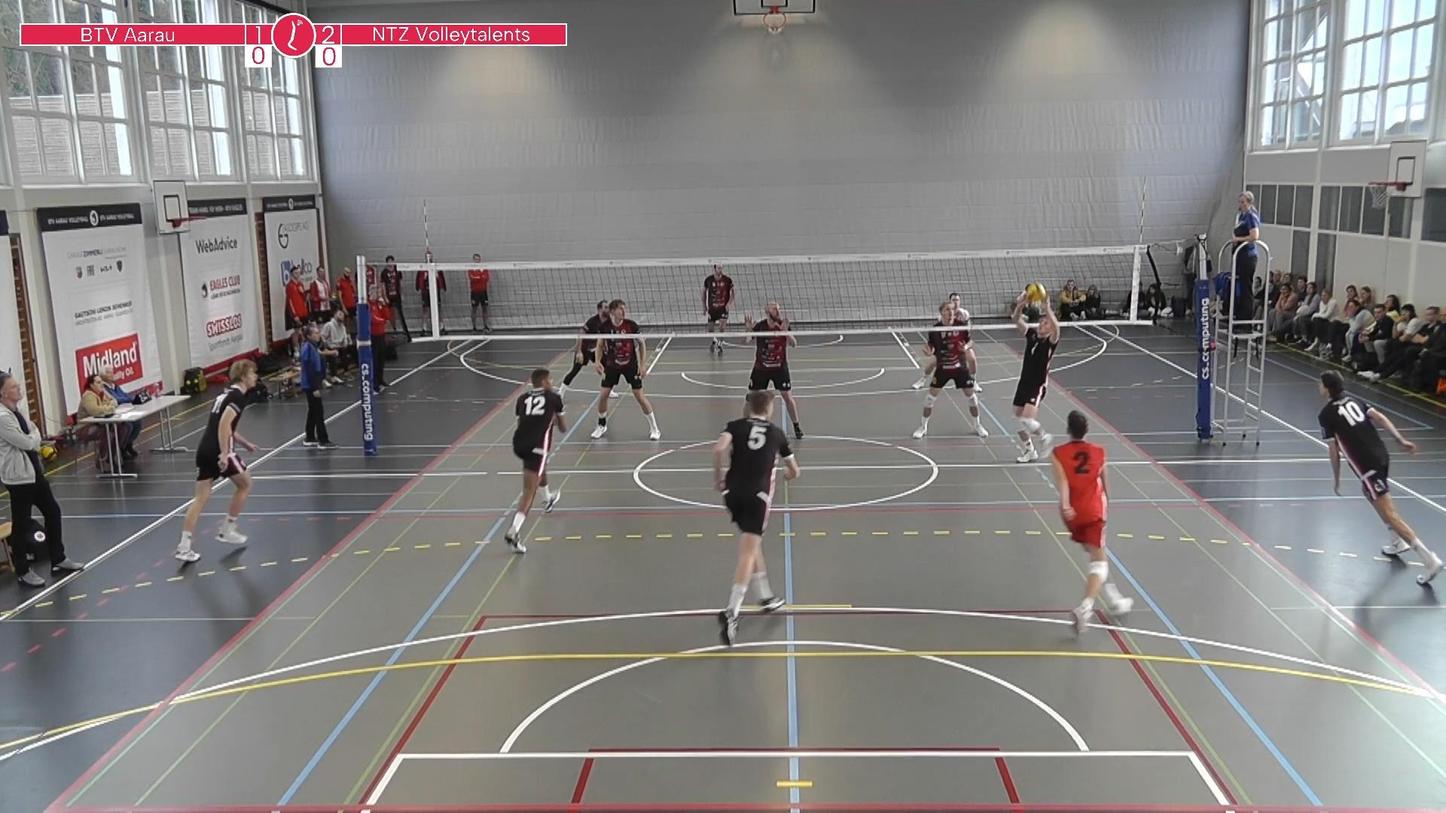Player: (1319, 371, 1441, 584), (713, 390, 799, 645), (1051, 410, 1133, 632), (175, 359, 258, 562), (505, 368, 565, 553), (913, 301, 987, 438), (591, 300, 660, 440), (745, 302, 803, 439), (560, 300, 609, 394), (948, 293, 982, 392), (703, 264, 734, 355)
Set: (994, 283, 1063, 458)
ball: (1022, 276, 1049, 305)
